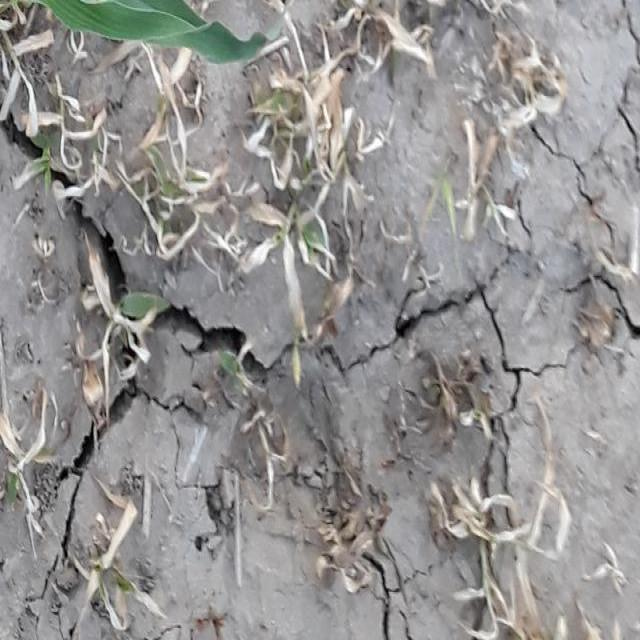weed: (238, 57, 380, 304), (0, 0, 281, 70)
